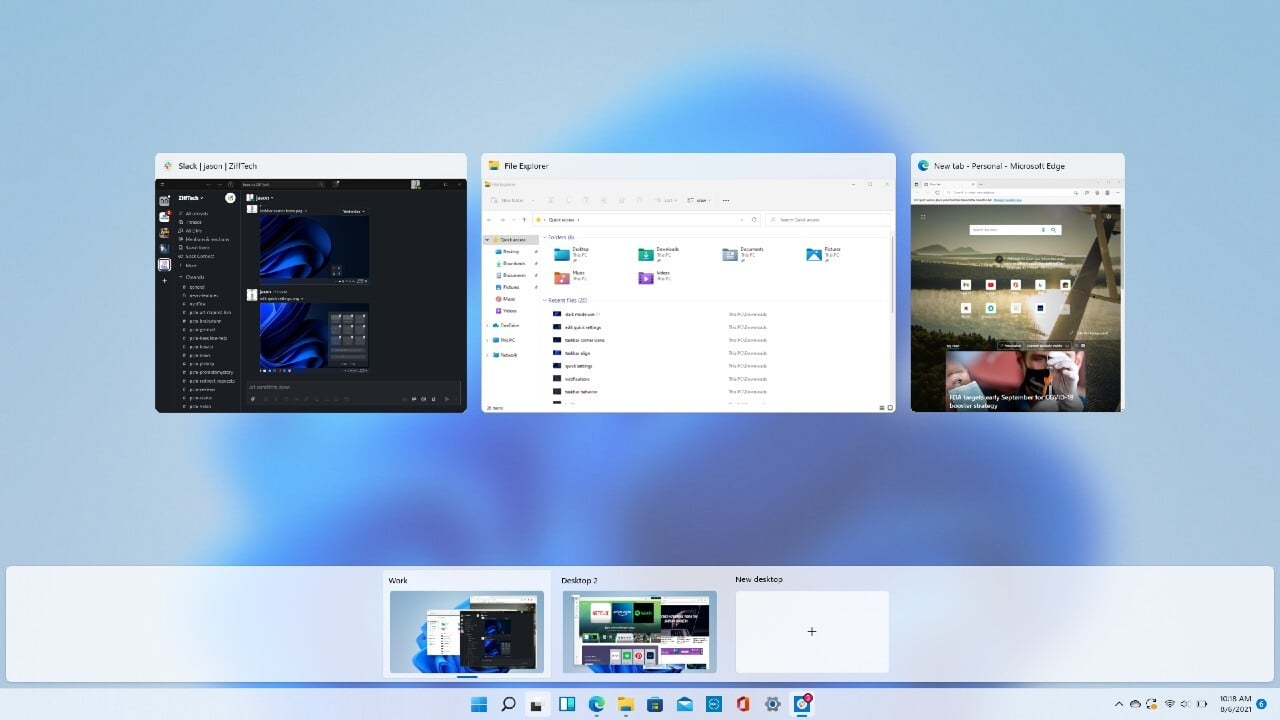start_bar: (469, 694, 491, 715)
